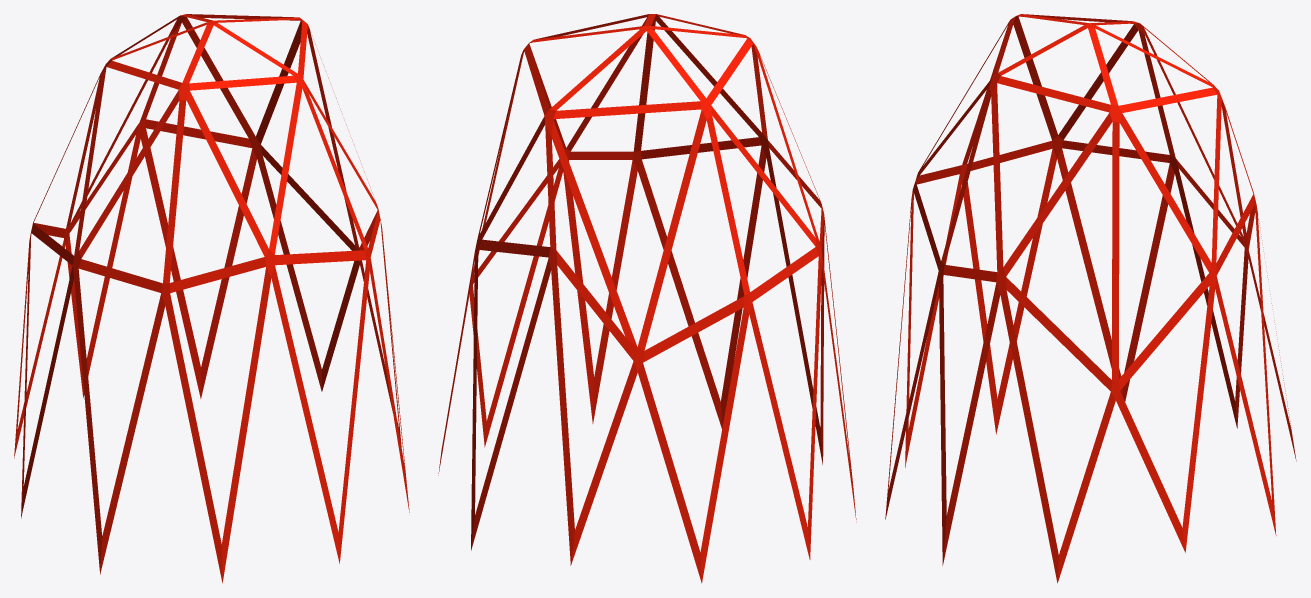
The model's file is mountain.obj.
3 renders of one model, left to right at view 1: azimuth 30°, elevation 25°; view 2: azimuth 150°, elevation 25°; view 3: azimuth 270°, elevation 25°, orthographic. The views are drawn at different scales.
Visible parts, largest first — view 1: Meshpart1; view 2: Meshpart1; view 3: Meshpart1.
Boxes of the visible parts, left/top/right/bottom form: Meshpart1: left=14, top=14, right=409, bottom=583; Meshpart1: left=438, top=14, right=856, bottom=583; Meshpart1: left=885, top=14, right=1296, bottom=583.
Bounding box in the file's own units: 23.72 × 31.13 × 23.8.
